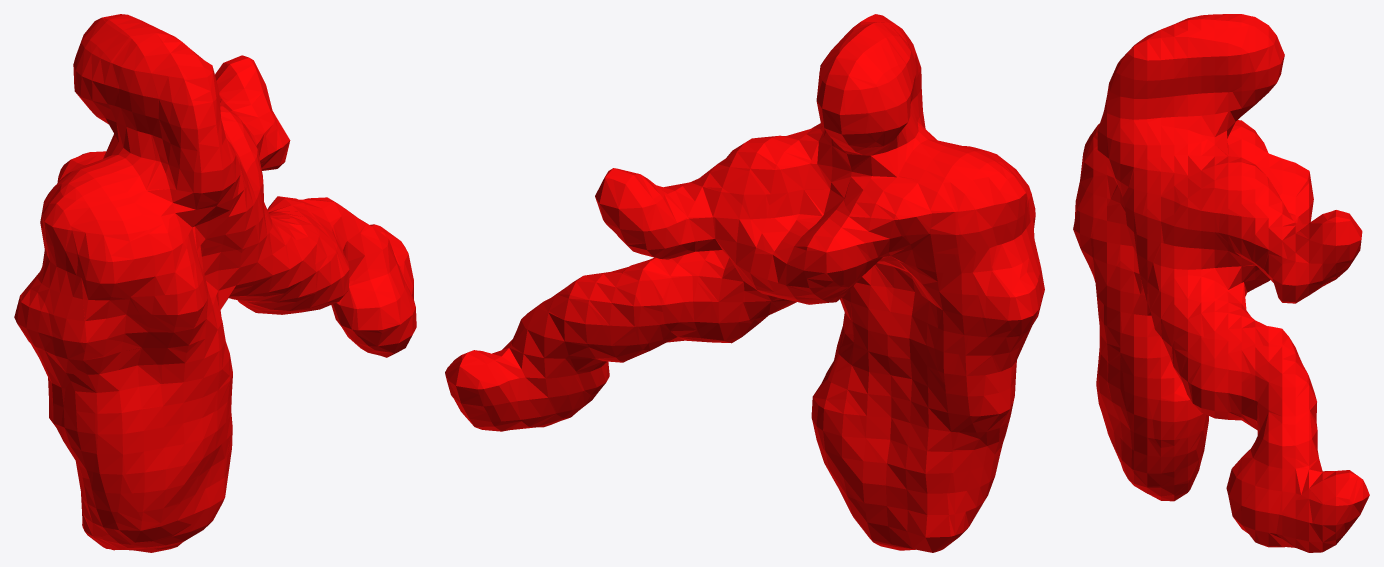
The model's file is nuoA_coarse.dae.
The picture shows the model from 3 angles, left to right: view 1: azimuth 30°, elevation 25°; view 2: azimuth 150°, elevation 25°; view 3: azimuth 270°, elevation 25°; orthographic projection. The views are drawn at different scales.
Parts seen in each view (by area): view 1: nuoA; view 2: nuoA; view 3: nuoA.
Part boxes in pixels (x1,y1,x2,y2): nuoA: [14, 14, 416, 552]; nuoA: [445, 14, 1044, 552]; nuoA: [1073, 14, 1369, 552].
Size of the model in its own units: 71.44 by 73.13 by 40.82.
